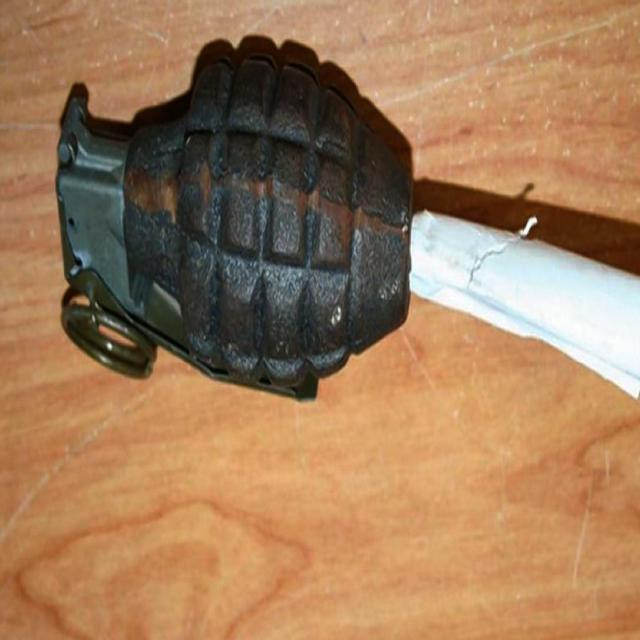grenade: (58, 54, 414, 407)
